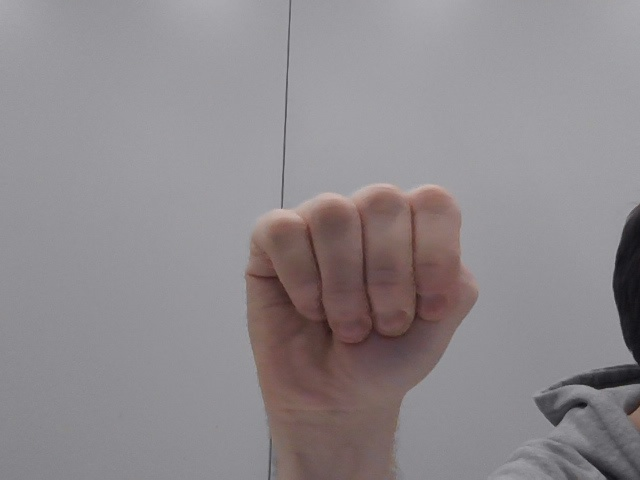down: (224, 167, 491, 430)
